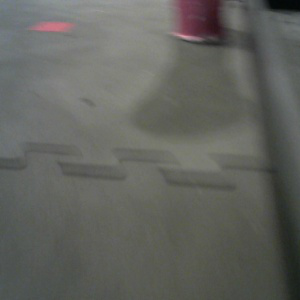Right: (169, 1, 228, 42)
